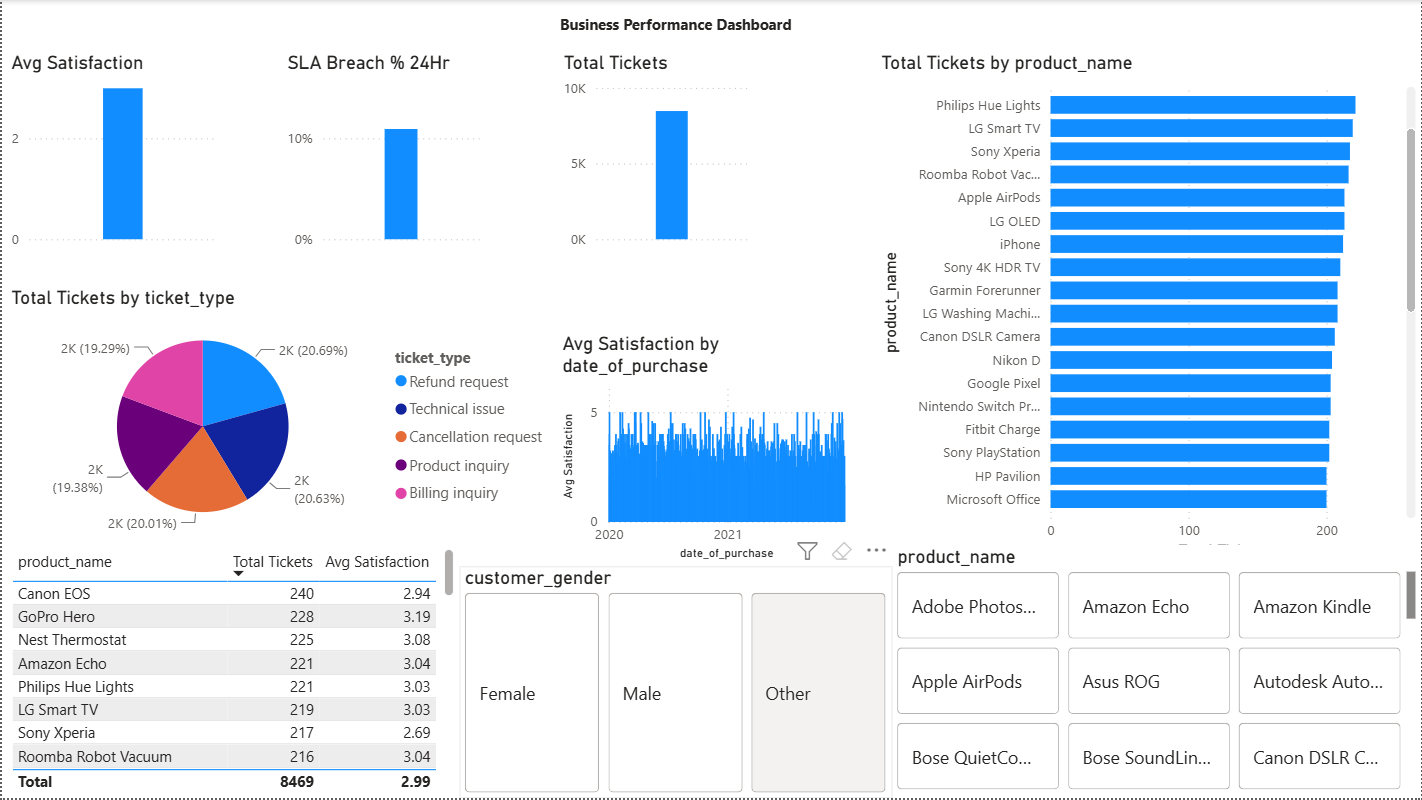

The page's visual inventory and layout, read from the dashboard file:
{"tool":"powerbi","page":{"name":"Business Dashboard","canvas":[1280,720],"ordinal":1},"visuals":[{"type":"clusteredColumnChart","fields":{"Y":["public tickets.Avg Satisfaction"]},"box":[3.5,46.5,196.5,183.7],"z":0},{"type":"clusteredColumnChart","fields":{"Y":["public tickets.SLA Breach % 24Hr"]},"box":[252.3,46.5,183.7,183.7],"z":1},{"type":"clusteredColumnChart","fields":{"Y":["public tickets.Total Tickets"]},"box":[501.2,46.5,176.7,183.7],"z":2},{"type":"pieChart","fields":{"Category":["public tickets.ticket_type"],"Y":["public tickets.Total Tickets"]},"box":[3.5,258.1,497.7,233.7],"z":3},{"type":"barChart","fields":{"Category":["public products.product_name"],"Y":["public tickets.Total Tickets"]},"box":[788.4,46.5,491.9,464],"z":4},{"type":"tableEx","fields":{"Values":["public products.product_name","public tickets.Total Tickets","public tickets.Avg Satisfaction"]},"box":[3.5,490.7,409.3,229.1],"z":5},{"type":"columnChart","fields":{"Y":["public tickets.Avg Satisfaction"],"Category":["public tickets.date_of_purchase"]},"box":[500,300,279.1,210.5],"z":6},{"type":"advancedSlicerVisual","fields":{"Values":["public products.product_name"]},"box":[802.3,491.9,477.9,227.9],"z":7},{"type":"advancedSlicerVisual","fields":{"Values":["public customers.customer_gender"]},"box":[412.8,510.5,389.5,209.3],"z":8},{"type":"textbox","box":[497.7,8.1,219.8,38.4],"z":9}]}

Visuals, with their boxes in screenshot pixels (x1, y1, x2, y2), scaled from the page's 1280x720 canvas onto the 1422x800 screenshot:
clusteredColumnChart - public tickets.Avg Satisfaction: x1=4 y1=52 x2=222 y2=256
clusteredColumnChart - public tickets.SLA Breach % 24Hr: x1=280 y1=52 x2=484 y2=256
clusteredColumnChart - public tickets.Total Tickets: x1=557 y1=52 x2=753 y2=256
pieChart - public tickets.ticket_type x public tickets.Total Tickets: x1=4 y1=287 x2=557 y2=546
barChart - public products.product_name x public tickets.Total Tickets: x1=876 y1=52 x2=1421 y2=567
tableEx - public products.product_name x public tickets.Total Tickets: x1=4 y1=545 x2=459 y2=799
columnChart - public tickets.Avg Satisfaction x public tickets.date_of_purchase: x1=555 y1=333 x2=866 y2=567
advancedSlicerVisual - public products.product_name: x1=891 y1=547 x2=1421 y2=799
advancedSlicerVisual - public customers.customer_gender: x1=459 y1=567 x2=891 y2=799
textbox: x1=553 y1=9 x2=797 y2=52
